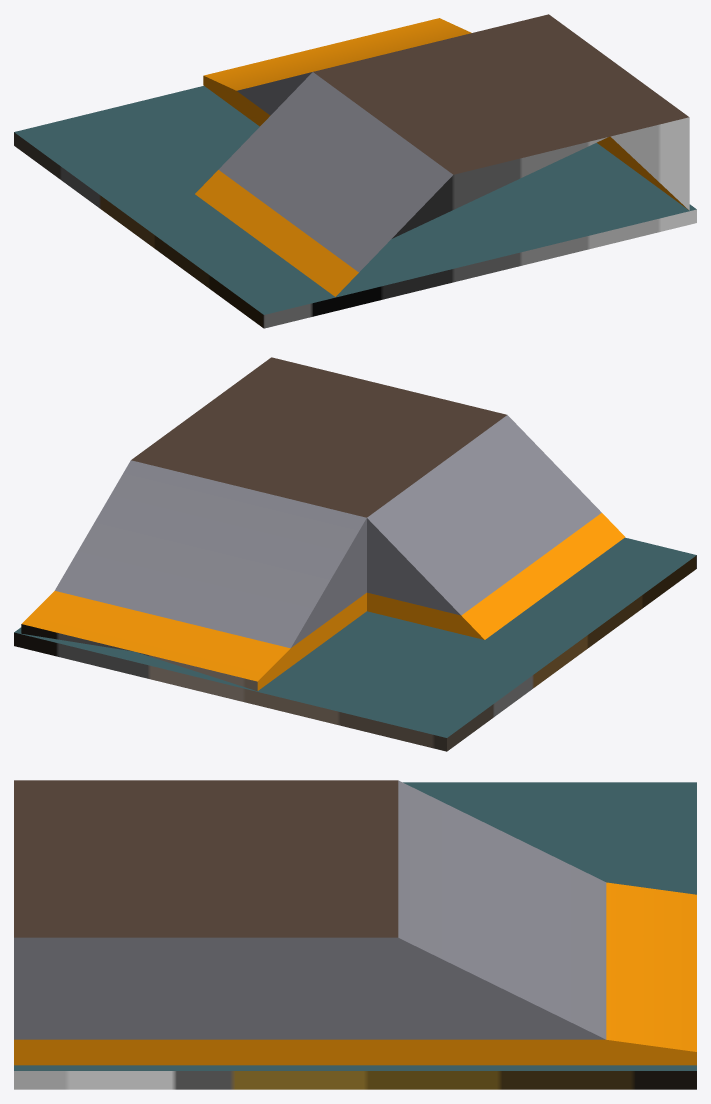
Rendered from tile_5_0_3.gltf.
3 renders of one model, top to bottom at view 1: azimuth 30°, elevation 25°; view 2: azimuth 150°, elevation 25°; view 3: azimuth 270°, elevation 25°, orthographic. The views are drawn at different scales.
Visible parts, largest first — view 1: ramp.rectangular.01, ground; view 2: ramp.rectangular.01, ground; view 3: ramp.rectangular.01, ground.
Boxes of the visible parts, <box> form: ramp.rectangular.01: <box>195,14,689,296</box>; ground: <box>14,86,696,328</box>; ramp.rectangular.01: <box>21,357,624,691</box>; ground: <box>14,537,696,751</box>; ramp.rectangular.01: <box>14,780,696,1065</box>; ground: <box>14,782,696,1089</box>.
Size of what is drawn, in the model's own units: 8 by 1.9 by 8.
Materials: 1 (1 with a texture image).
